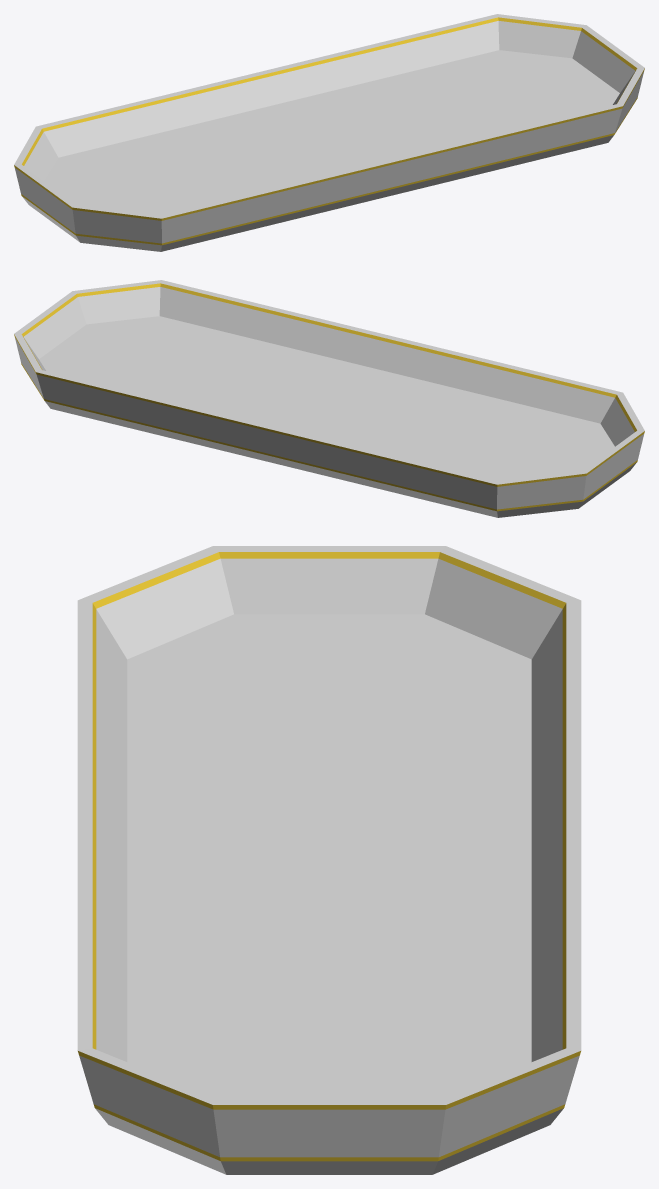
File: PlatFinal_VR_Mio.fbx
The picture shows the model from 3 angles, top to bottom: view 1: azimuth 30°, elevation 25°; view 2: azimuth 150°, elevation 25°; view 3: azimuth 270°, elevation 25°; orthographic projection. The views are drawn at different scales.
Visible parts, largest first — view 1: plat_final; view 2: plat_final; view 3: plat_final.
Part boxes in pixels (box(x1,y1,x2,y2)): plat_final: box(14, 14, 644, 251); plat_final: box(14, 280, 644, 517); plat_final: box(77, 546, 581, 1174).
Bounding box in the file's own units: 28.96 × 1.96 × 11.03.
